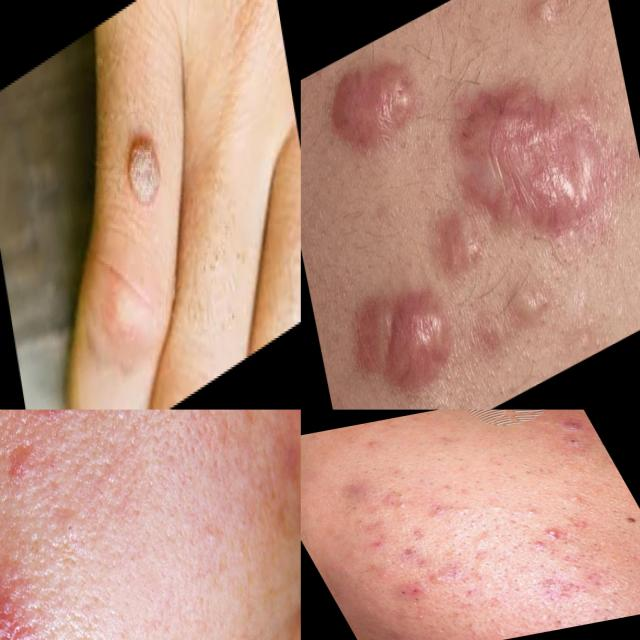6: (431, 22, 640, 295), (320, 31, 433, 179), (342, 270, 459, 410), (485, 249, 577, 367), (431, 201, 466, 284)
8: (540, 520, 571, 542), (421, 570, 454, 590), (554, 417, 584, 434)
blackheads: (0, 562, 28, 640), (18, 410, 77, 446)
dark spot: (514, 499, 554, 519), (554, 433, 590, 451), (383, 485, 414, 502)
pustules: (520, 0, 577, 58)
